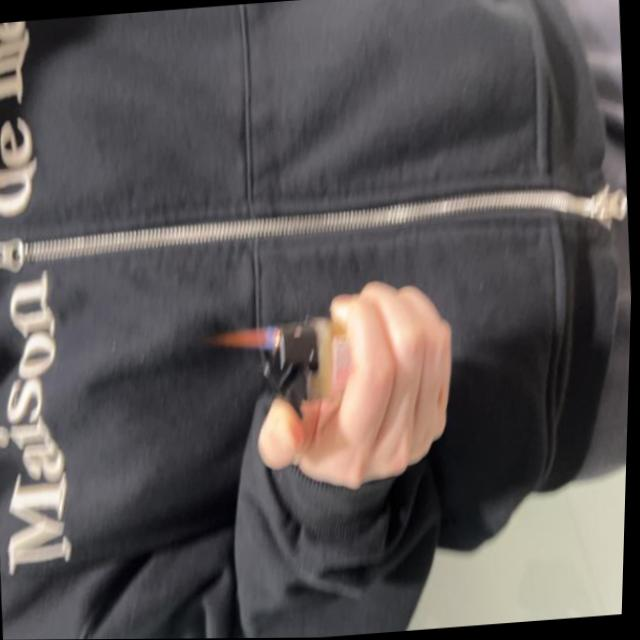Fire: (217, 324, 280, 353)
